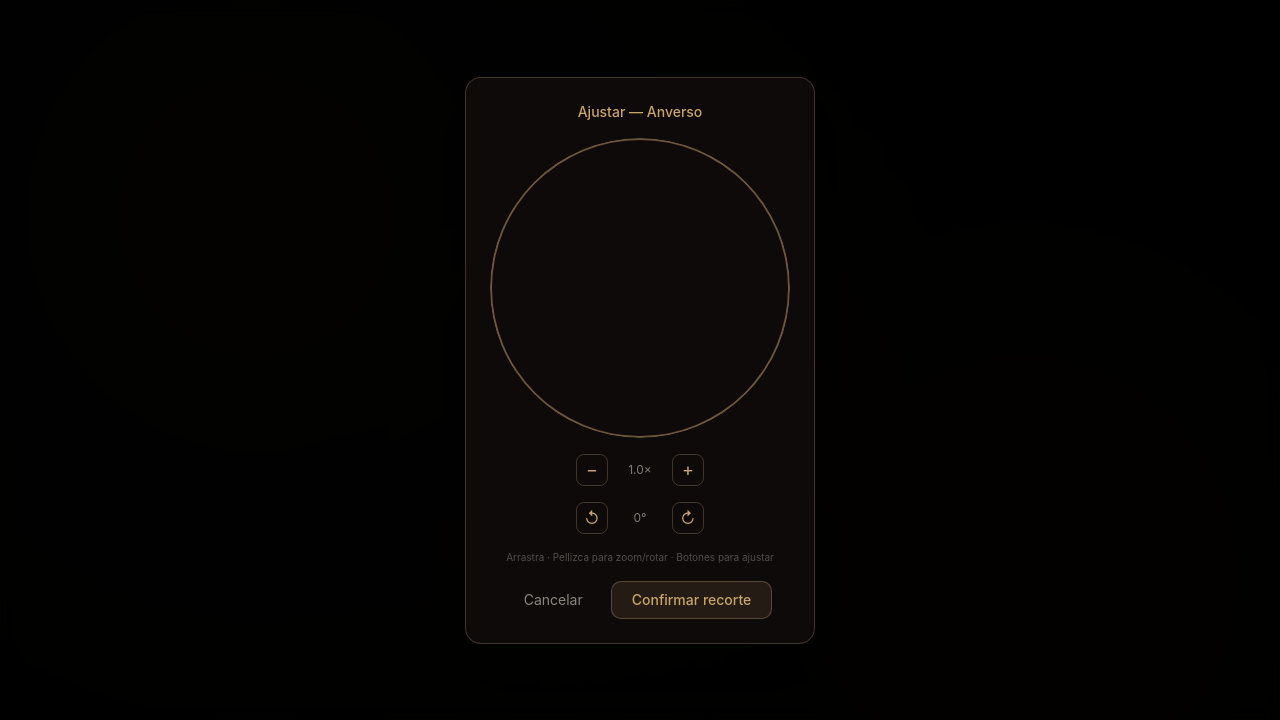
Test: ImageCropEditor › clicking + increases zoom by 0.1
Click the button "+": (688, 470) [672,454,704,486]
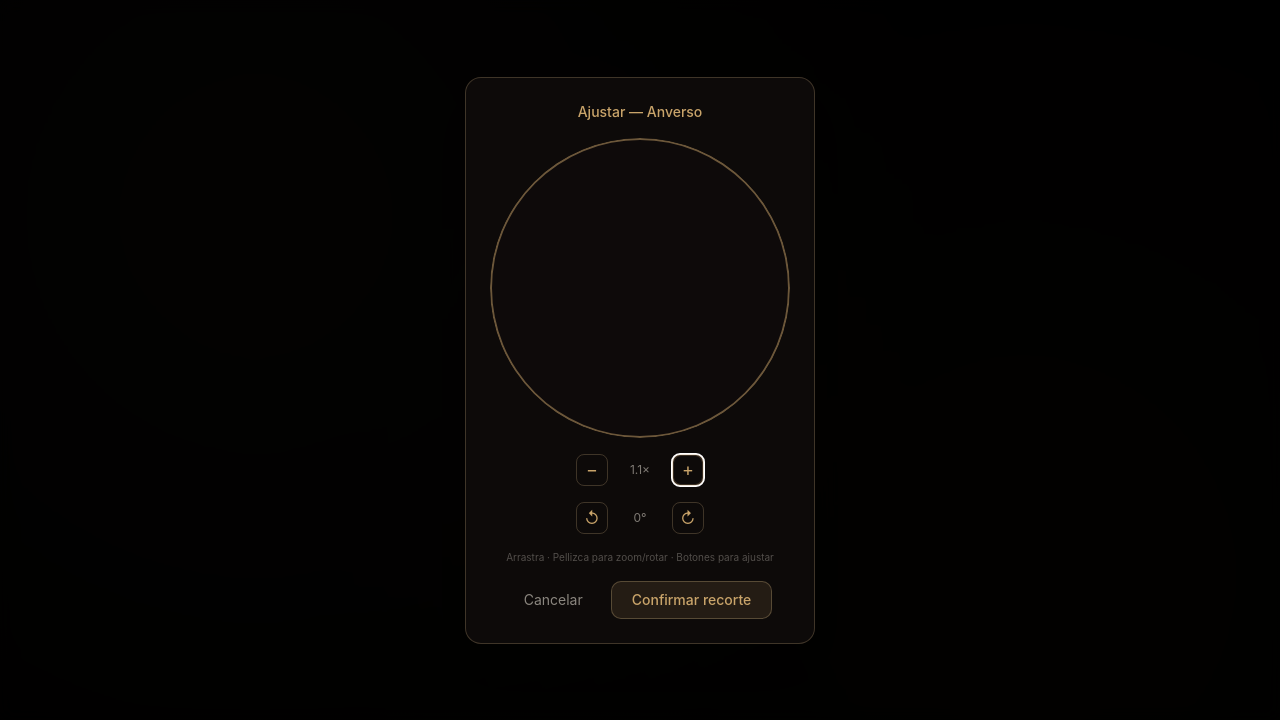
Expected: the text "1.1×" is shown, [630,462,650,476]
